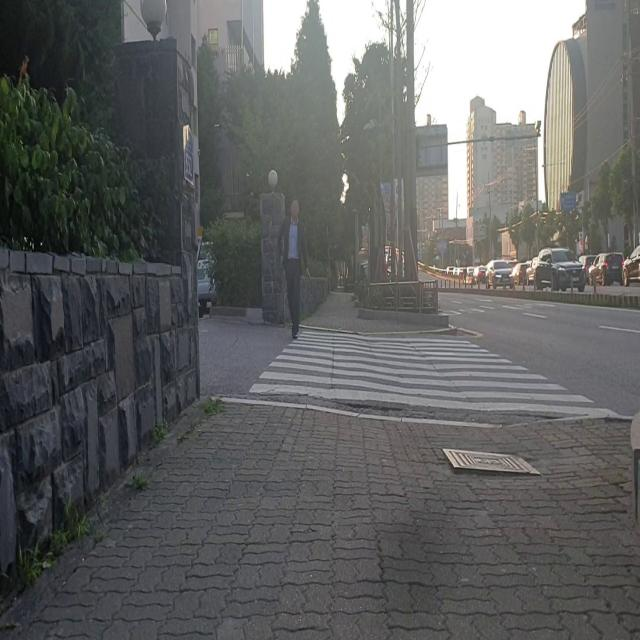횡단보도: (248, 328, 620, 420)
